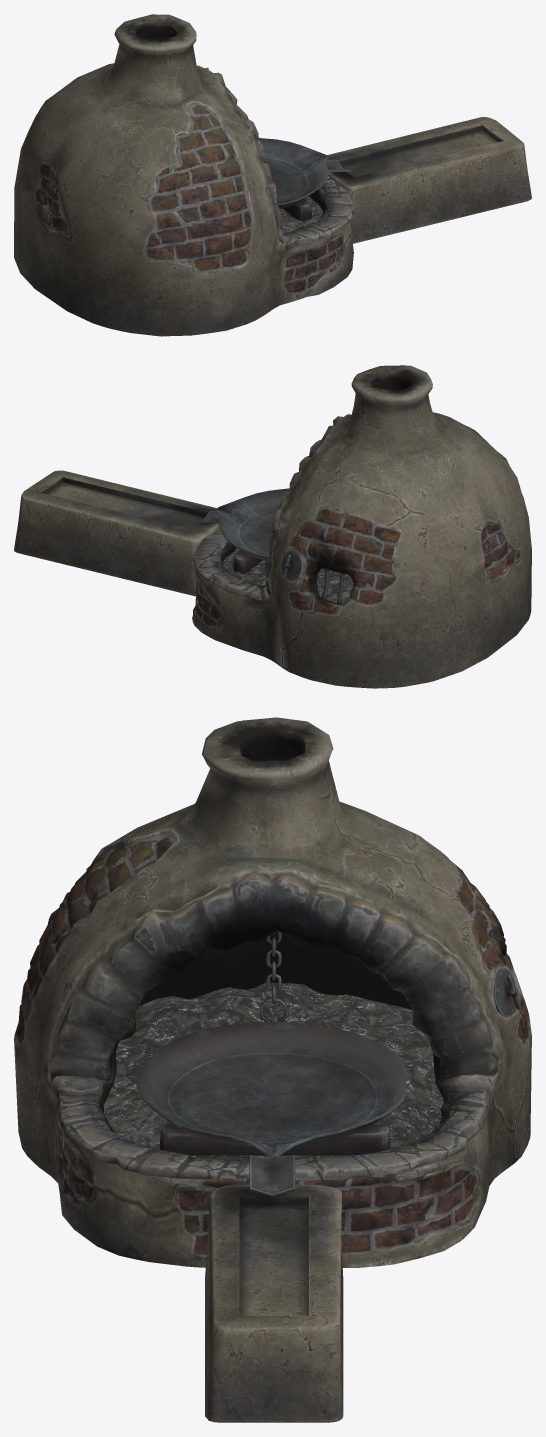
Rendered from furnace.glb.
3 views of the same model, one above another, from view 1: azimuth 30°, elevation 25°; view 2: azimuth 150°, elevation 25°; view 3: azimuth 270°, elevation 25° (orthographic). The views are drawn at different scales.
Parts seen in each view (by area): view 1: LP_body_Furnace_0, LP_form_Furnace_0, LP_lever_Metal_0, LP_coal_Coal_0; view 2: LP_body_Furnace_0, LP_form_Furnace_0, LP_lever_Metal_0, LP_coal_Coal_0; view 3: LP_body_Furnace_0, LP_lever_Metal_0, LP_form_Furnace_0, LP_coal_Coal_0.
Part boxes in pixels (<box>): LP_body_Furnace_0: <box>14,14,354,336</box>; LP_form_Furnace_0: <box>327,117,531,243</box>; LP_lever_Metal_0: <box>258,138,350,221</box>; LP_coal_Coal_0: <box>279,196,322,233</box>; LP_body_Furnace_0: <box>192,365,531,688</box>; LP_form_Furnace_0: <box>14,470,219,596</box>; LP_lever_Metal_0: <box>196,488,344,604</box>; LP_coal_Coal_0: <box>223,548,353,603</box>; LP_body_Furnace_0: <box>14,717,531,1267</box>; LP_lever_Metal_0: <box>136,930,521,1195</box>; LP_form_Furnace_0: <box>205,1184,343,1422</box>; LP_coal_Coal_0: <box>103,982,443,1159</box>.
Bounding box in the file's own units: 4.89 × 2.42 × 2.87.
Materials: 3 (3 with a texture image).
